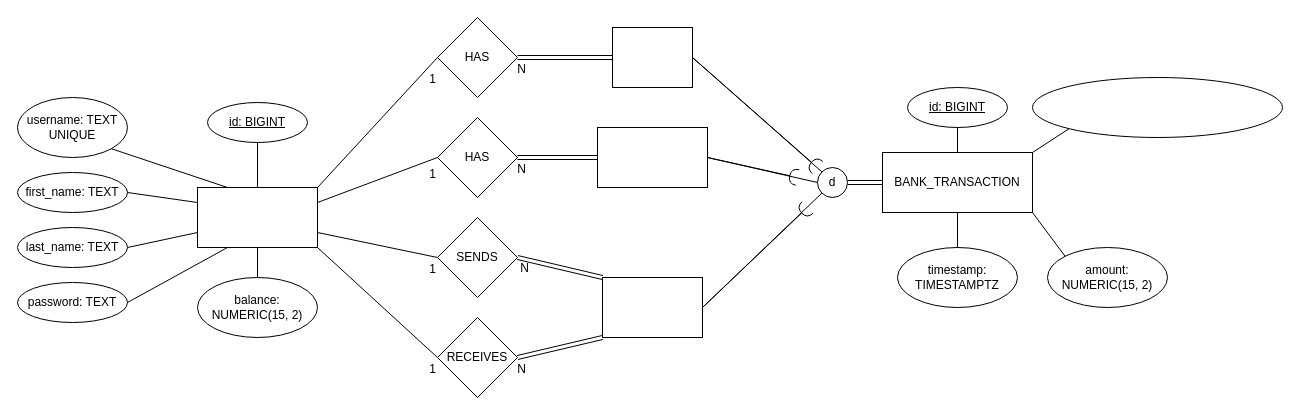
The diagram is 1300 pixels wide and 415 high, and some of its shapes have lost their labels. Here are the shapes that lost their labels. From the top down, the centre of each, then its label:
At (x=652, y=57): "DEPOSIT".
At (x=1157, y=107): "type: BANK_TRANSACTION_TYPE_ENUM".
At (x=652, y=157): "WITHDRAWAL".
At (x=257, y=217): "ACCOUNT".
At (x=652, y=307): "TRANSFER".
